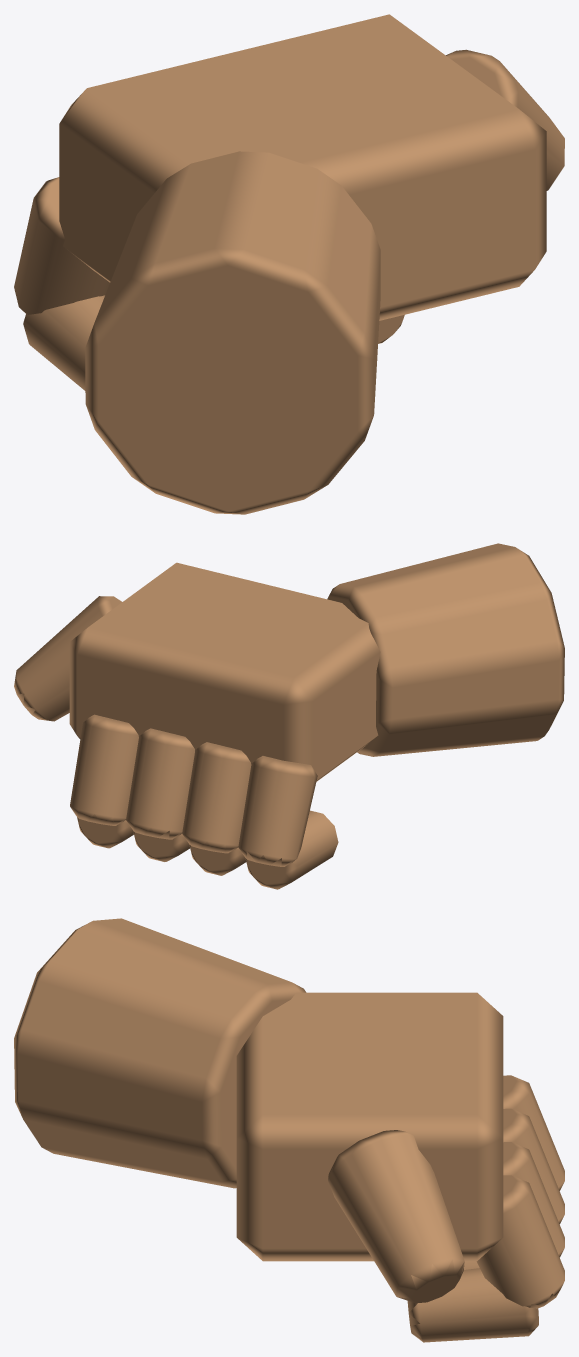
Rendered from GoldFxBucketHandL.glb.
The picture shows the model from 3 angles, top to bottom: view 1: azimuth 30°, elevation 25°; view 2: azimuth 150°, elevation 25°; view 3: azimuth 270°, elevation 25°; orthographic projection. The views are drawn at different scales.
Parts seen in each view (by area): view 1: GoldFxBucketHandL.001; view 2: GoldFxBucketHandL.001; view 3: GoldFxBucketHandL.001.
Boxes of the visible parts, bbox=[...] form: GoldFxBucketHandL.001: bbox=[14, 14, 564, 514]; GoldFxBucketHandL.001: bbox=[14, 543, 564, 889]; GoldFxBucketHandL.001: bbox=[14, 918, 564, 1342].
Size of the model in its own units: 0.1382 by 0.0689 by 0.1259.
